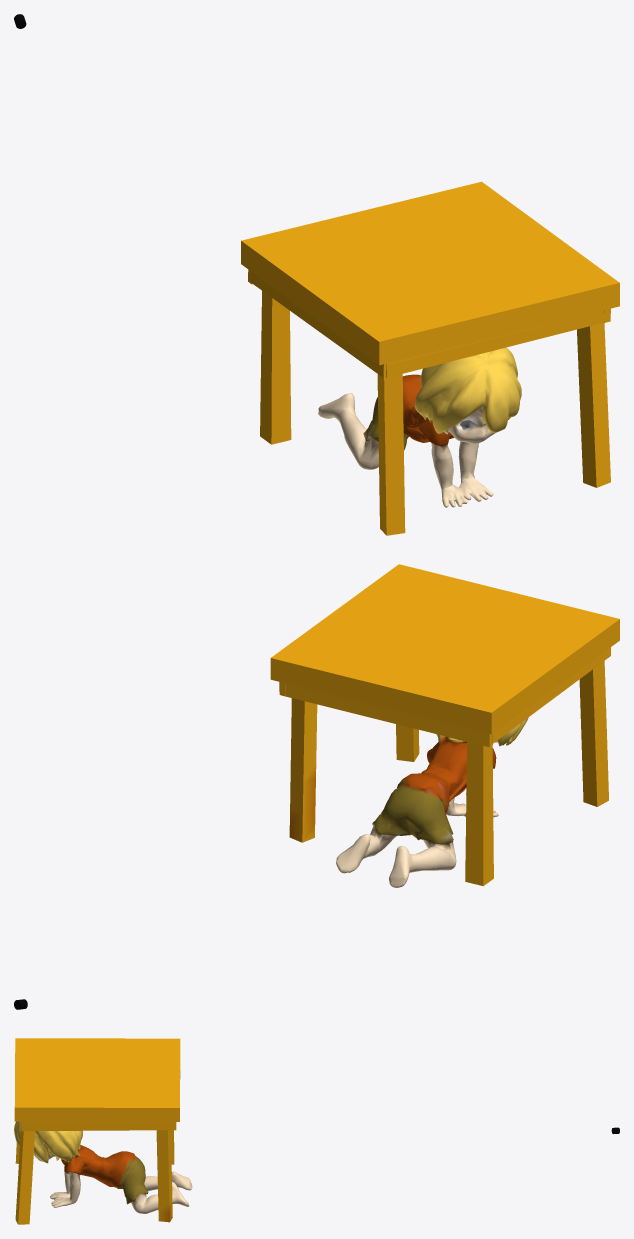
Rendered from Niña-Mesa.glb.
3 renders of one model, top to bottom at view 1: azimuth 30°, elevation 25°; view 2: azimuth 150°, elevation 25°; view 3: azimuth 270°, elevation 25°, orthographic. The views are drawn at different scales.
Parts seen in each view (by area): view 1: Niña-Mesa; view 2: Niña-Mesa; view 3: Niña-Mesa.
Part boxes in pixels (<box>): Niña-Mesa: <box>14,14,619,535</box>; Niña-Mesa: <box>14,564,619,1009</box>; Niña-Mesa: <box>14,1038,619,1224</box>.
Size of the model in its own units: 7.05 by 6.18 by 25.8.
